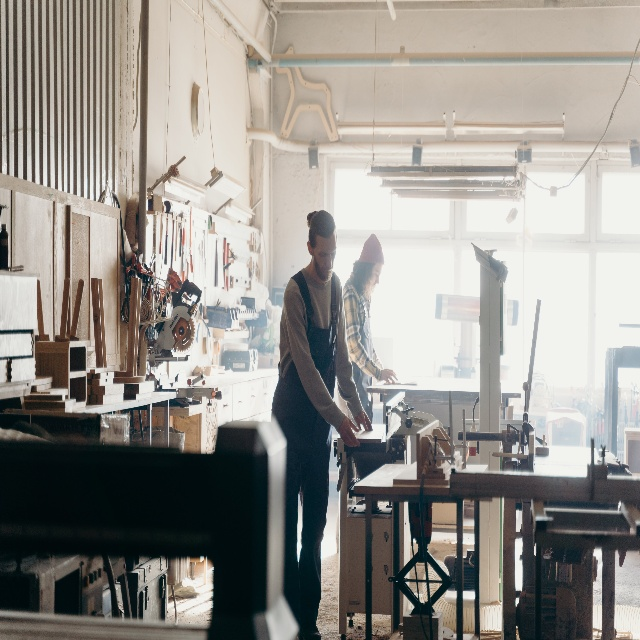Sin_guantes: (340, 416, 360, 450), (354, 410, 372, 432), (381, 367, 396, 384)
